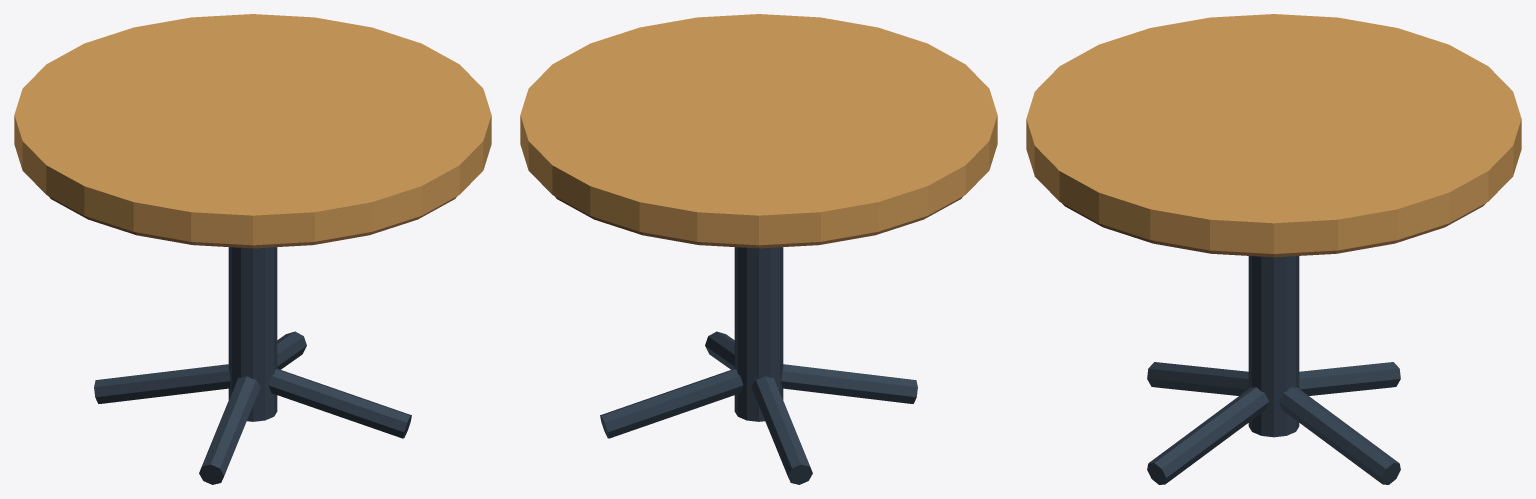
The model's file is table_cafe.glb.
3 views of the same model, side by side, from view 1: azimuth 30°, elevation 25°; view 2: azimuth 150°, elevation 25°; view 3: azimuth 270°, elevation 25° (orthographic). The views are drawn at different scales.
Visible parts, largest first — view 1: table_cafe__oak_top, table_cafe__metal, table_cafe__oak_dark; view 2: table_cafe__oak_top, table_cafe__metal, table_cafe__oak_dark; view 3: table_cafe__oak_top, table_cafe__metal, table_cafe__oak_dark.
Part boxes in pixels (left/top/right/bottom): table_cafe__oak_top: left=14, top=14, right=491, bottom=245; table_cafe__metal: left=94, top=247, right=411, bottom=484; table_cafe__oak_dark: left=48, top=196, right=457, bottom=248; table_cafe__oak_top: left=520, top=14, right=997, bottom=245; table_cafe__metal: left=600, top=247, right=917, bottom=484; table_cafe__oak_dark: left=554, top=196, right=963, bottom=248; table_cafe__oak_top: left=1026, top=14, right=1521, bottom=253; table_cafe__metal: left=1147, top=256, right=1400, bottom=484; table_cafe__oak_dark: left=1062, top=203, right=1485, bottom=257.
Size of the model in its own units: 1.02 by 0.7222 by 1.02.
